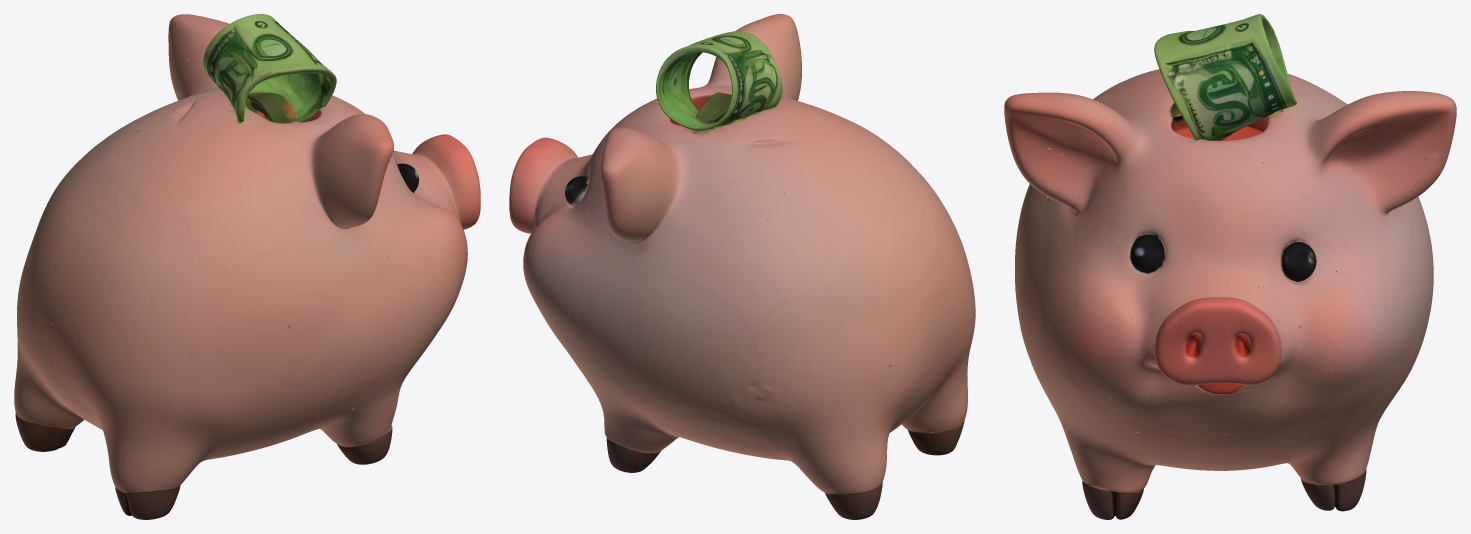
Rendered from pet_pig.glb.
The picture shows the model from 3 angles, left to right: view 1: azimuth 30°, elevation 25°; view 2: azimuth 150°, elevation 25°; view 3: azimuth 270°, elevation 25°; orthographic projection. The views are drawn at different scales.
Parts seen in each view (by area): view 1: tripo_node_4b613223-2cb6-4aa1-8242-bedc0882751f; view 2: tripo_node_4b613223-2cb6-4aa1-8242-bedc0882751f; view 3: tripo_node_4b613223-2cb6-4aa1-8242-bedc0882751f.
Boxes of the visible parts, x1,y1,x2,y2 form: tripo_node_4b613223-2cb6-4aa1-8242-bedc0882751f: [14, 14, 480, 519]; tripo_node_4b613223-2cb6-4aa1-8242-bedc0882751f: [509, 14, 975, 519]; tripo_node_4b613223-2cb6-4aa1-8242-bedc0882751f: [1004, 14, 1456, 519].
Size of the model in its own units: 1 by 0.948 by 0.8317.
Materials: 1 (1 with a texture image).
